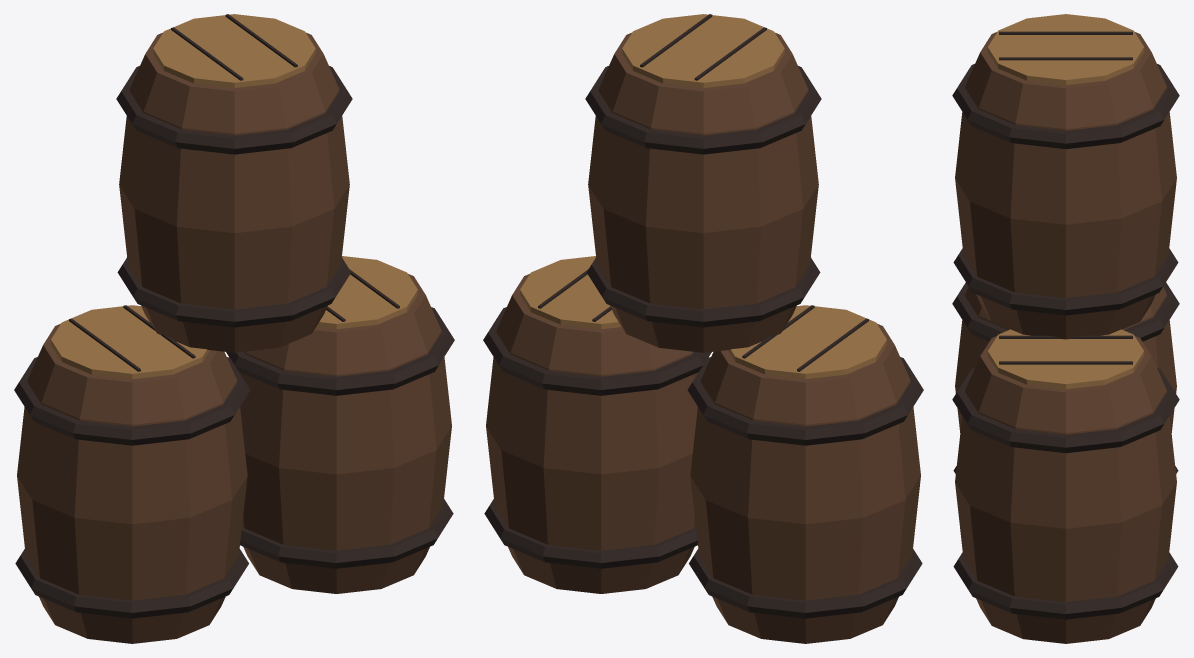
File: PirateCove_BarrelStack_Standard.glb
The picture shows the model from 3 angles, left to right: view 1: azimuth 30°, elevation 25°; view 2: azimuth 150°, elevation 25°; view 3: azimuth 270°, elevation 25°; orthographic projection. The views are drawn at different scales.
Visible parts, largest first — view 1: PirateCove_BarrelStack_Standard; view 2: PirateCove_BarrelStack_Standard; view 3: PirateCove_BarrelStack_Standard.
Part boxes in pixels (bbox=[...]): PirateCove_BarrelStack_Standard: bbox=[14, 14, 454, 643]; PirateCove_BarrelStack_Standard: bbox=[483, 14, 923, 643]; PirateCove_BarrelStack_Standard: bbox=[952, 14, 1179, 643].
Size of the model in its own units: 1.8 by 2.25 by 0.902.
